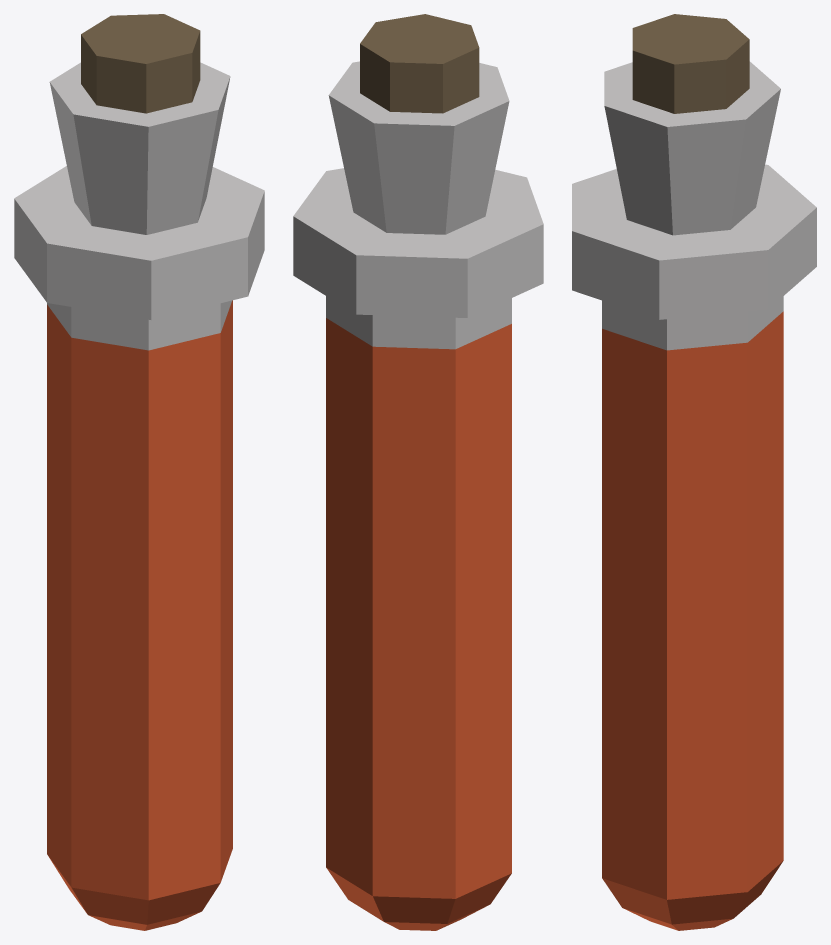
The model's file is WF_LP_HT_Props_PotionBottle.008.fbx.
3 renders of one model, left to right at view 1: azimuth 30°, elevation 25°; view 2: azimuth 150°, elevation 25°; view 3: azimuth 270°, elevation 25°, orthographic.
Visible parts, largest first — view 1: WF_LP_HT_Props_PotionBottle.008; view 2: WF_LP_HT_Props_PotionBottle.008; view 3: WF_LP_HT_Props_PotionBottle.008.
Boxes of the visible parts, box(x1,y1,x2,y2) form: WF_LP_HT_Props_PotionBottle.008: box(14, 14, 264, 930); WF_LP_HT_Props_PotionBottle.008: box(293, 14, 543, 930); WF_LP_HT_Props_PotionBottle.008: box(572, 14, 816, 930).
Bounding box in the file's own units: 0.0624 × 0.2396 × 0.0608.
